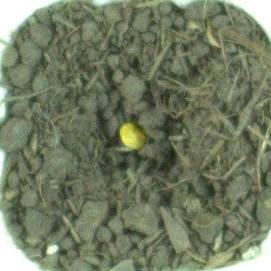chilli seed: (117, 120, 150, 151)
